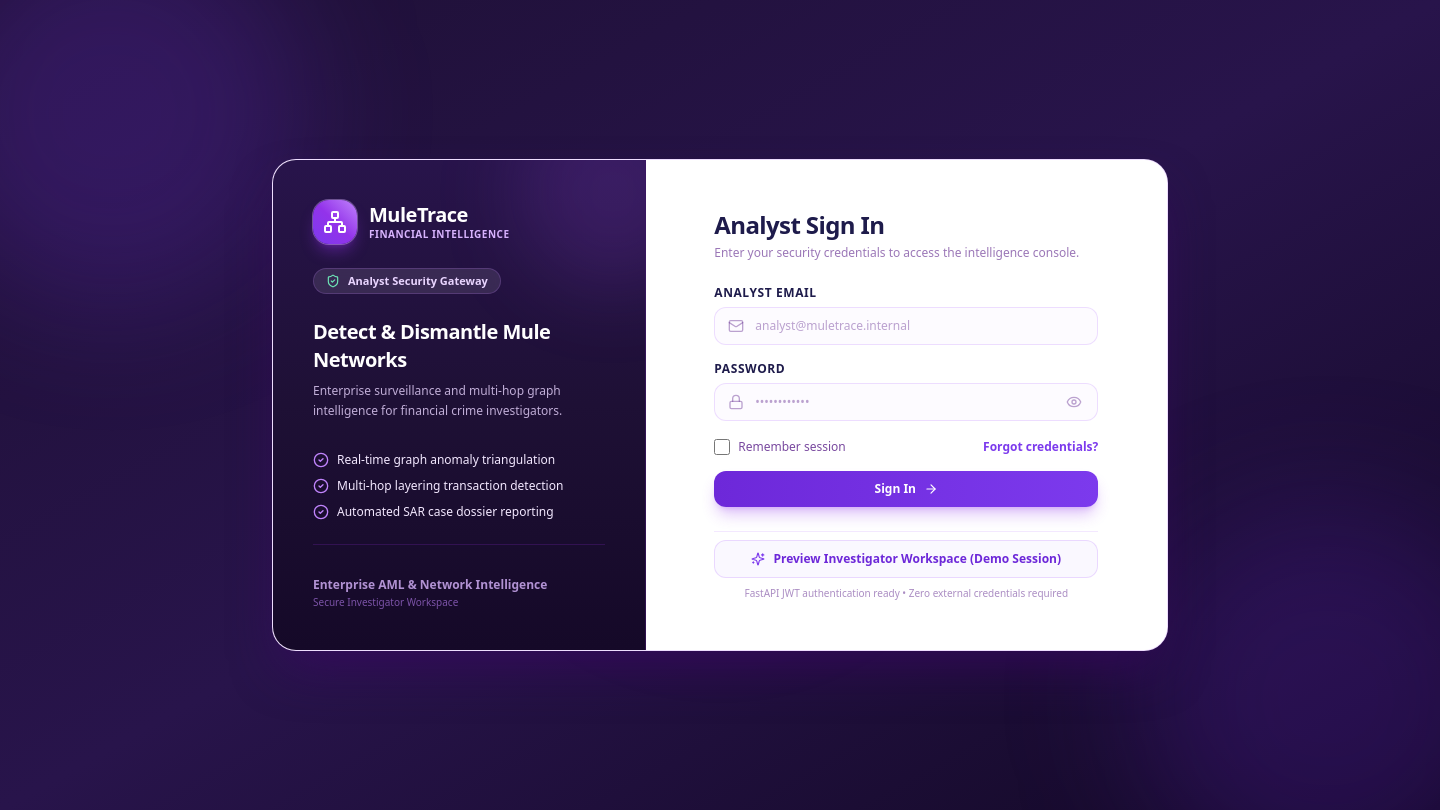
MuleTrace Authentication & Navigation Flow › displays form validation errors for invalid email and short password
The width and height of the screenshot is (1440, 810).
Click the button "Sign In": (906, 489) [714, 471, 1098, 507]
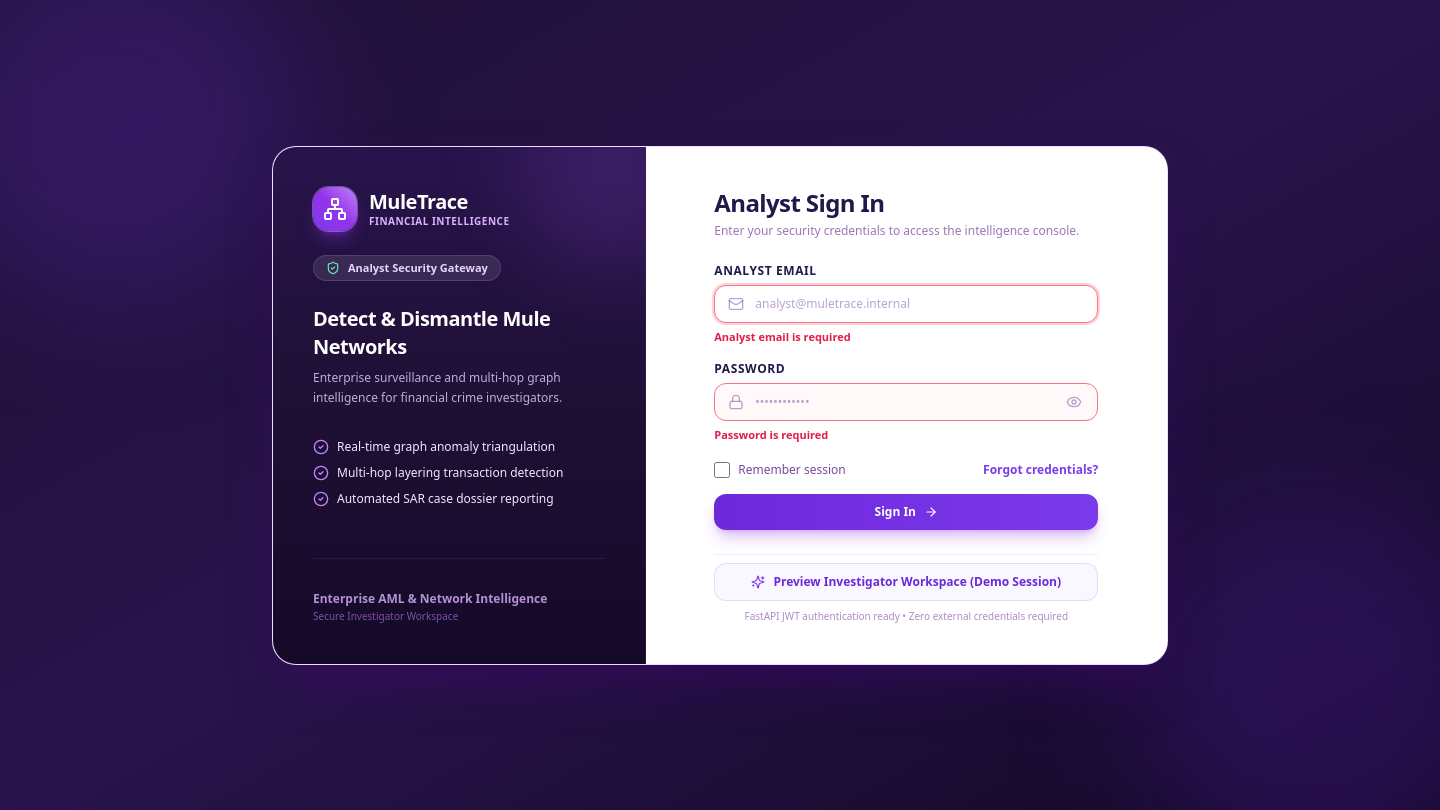
Expected: the text "Analyst email is required" is shown, [714, 328, 851, 344]
Expected: the text "Password is required" is shown, [714, 427, 828, 442]
In the field labelled "Analyst Email": (906, 304) [714, 284, 1098, 322], type "not-an-email"
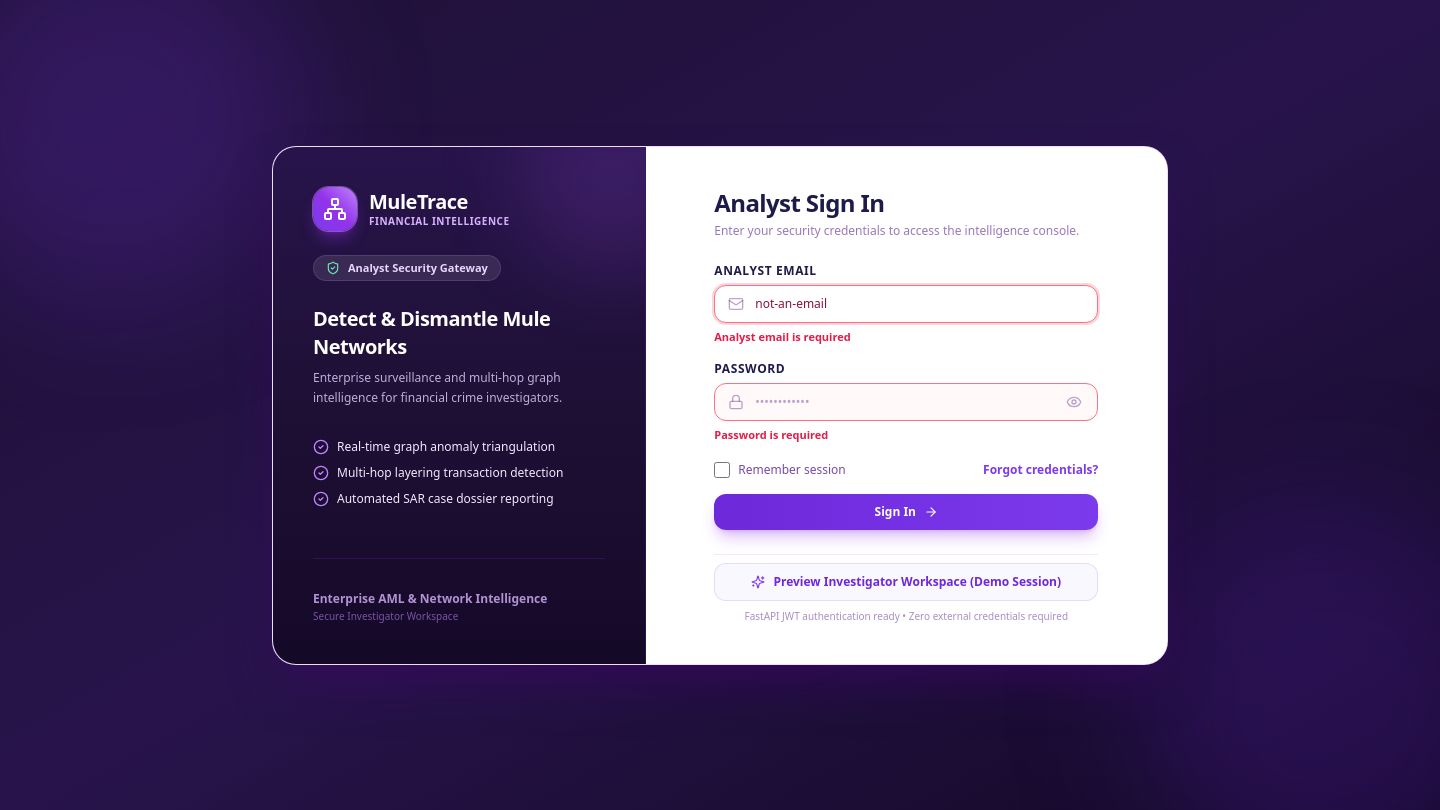
In the password field labelled "Password": (906, 402) [714, 383, 1098, 421], type "pass"
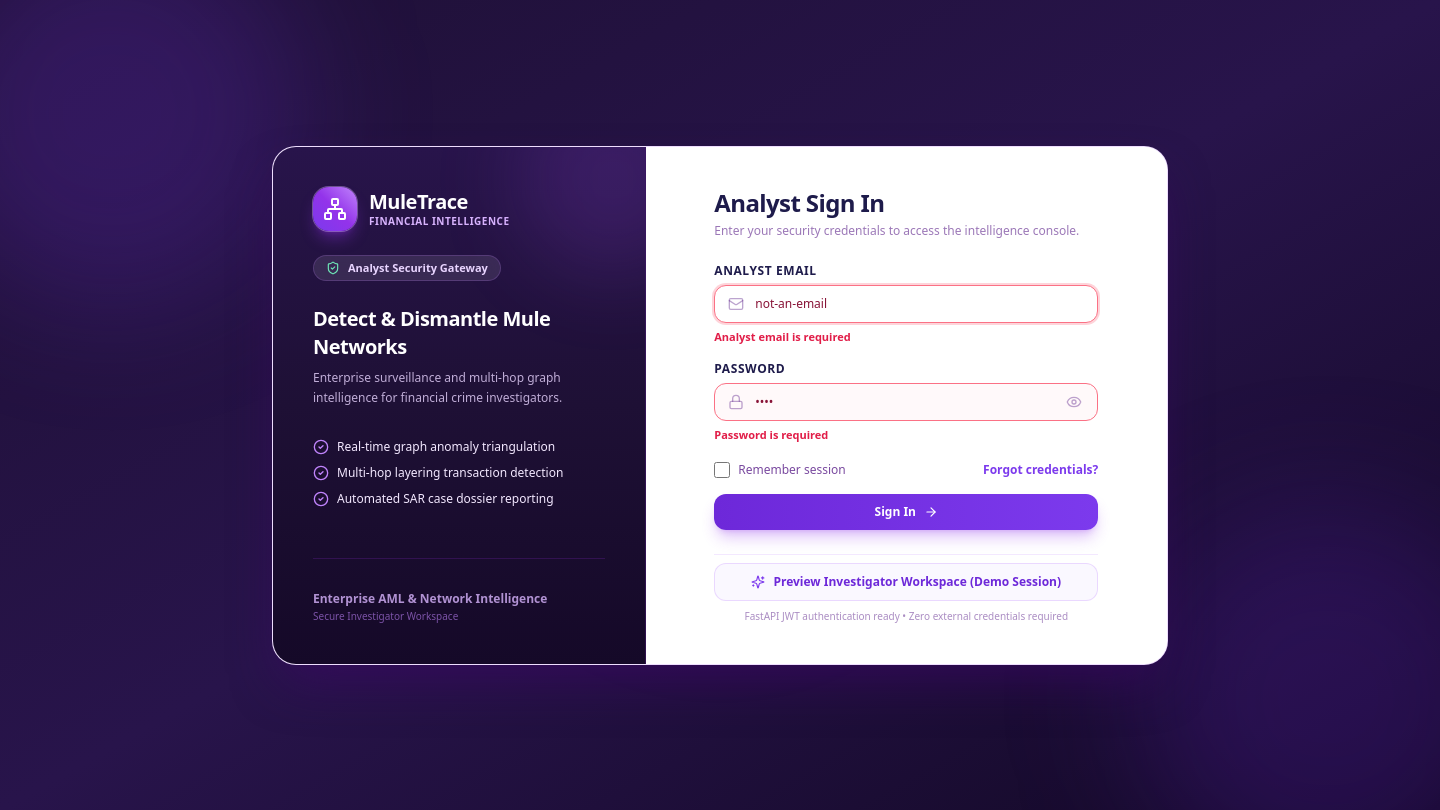
Click the button "Sign In": (906, 512) [714, 494, 1098, 530]
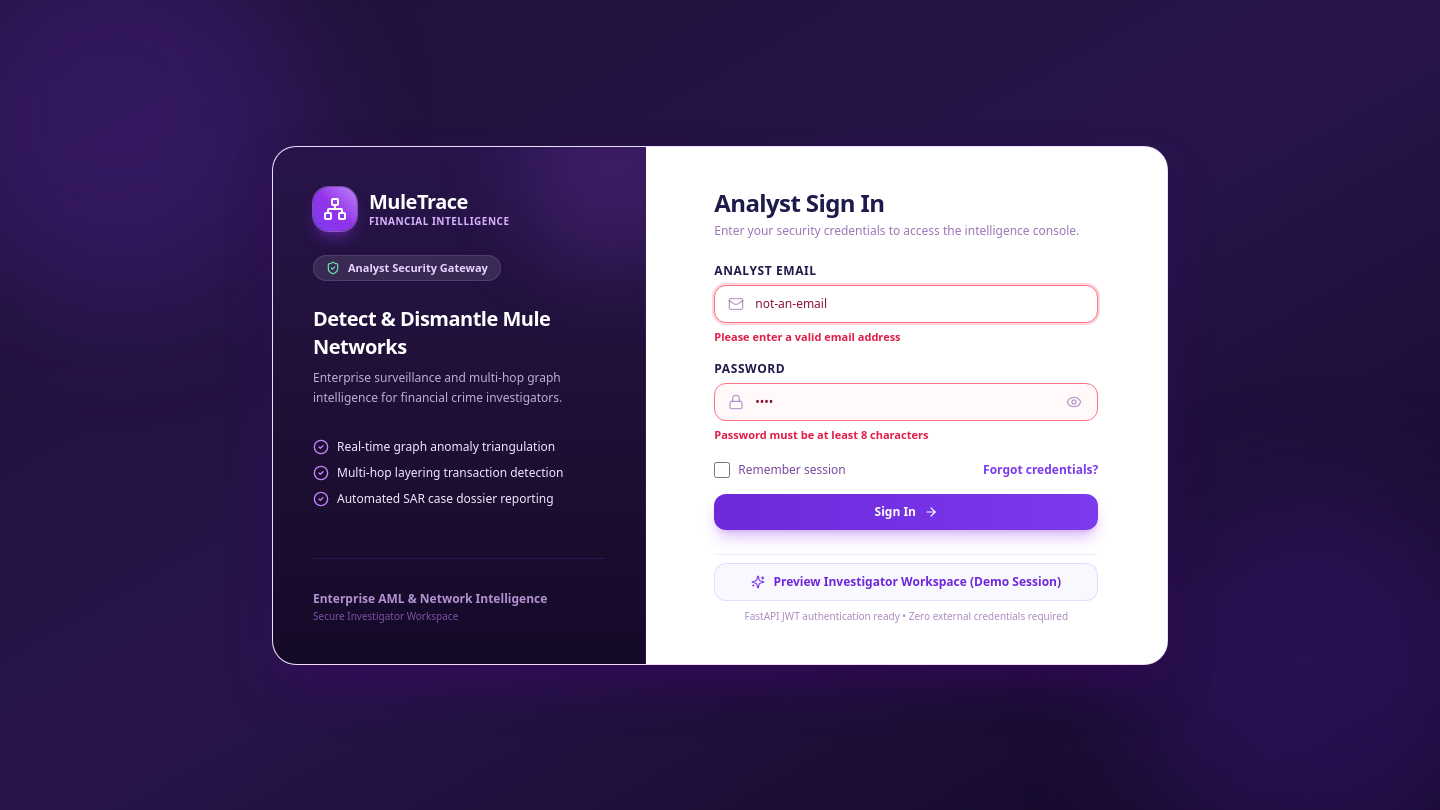
Expected: the text "Please enter a valid email address" is shown, [714, 328, 901, 344]
Expected: the text "Password must be at least 8 characters" is shown, [714, 427, 928, 442]
